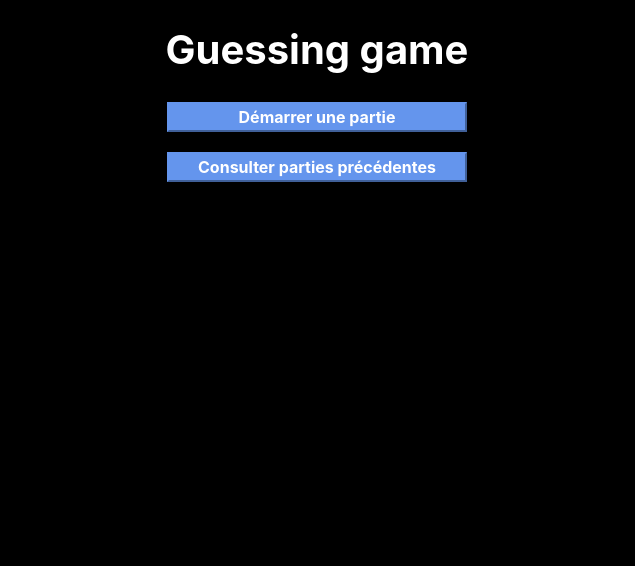
Test: Guessing Game Application Tests › Vérifiez que lorsque vous appuyez sur le bouton “abandonner la partie”, vous arrivez bien sur une page de défaite
Click the button with id "button-start-game" at (317, 117), box [167,102,467,132]
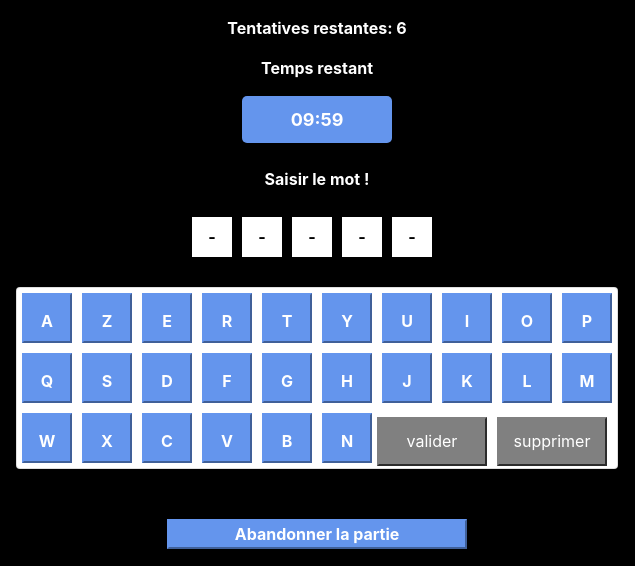
Click the button with id "button-abandonner" at (317, 534), box [167,519,467,549]
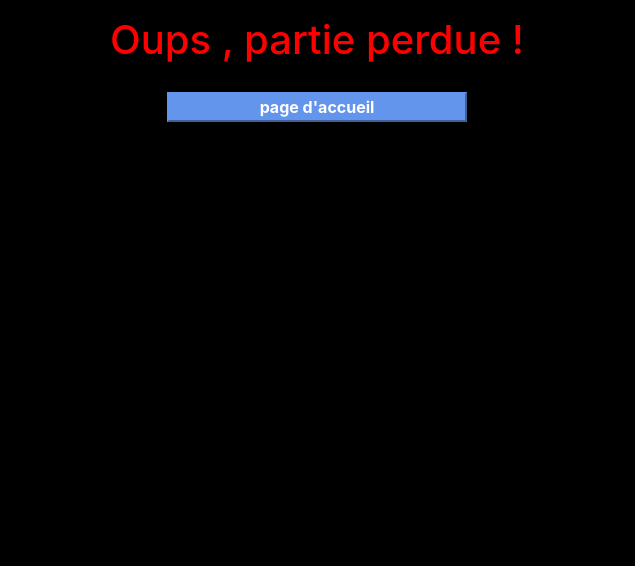
expect the heading "Oups , partie perdue !" is shown: met, box [110,16,524,64]
